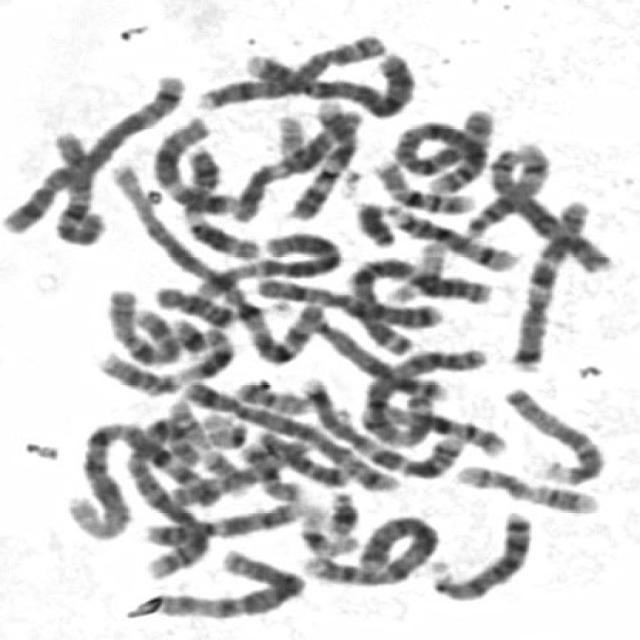A1: (102, 152, 327, 366), (70, 413, 218, 556)
A2: (120, 405, 214, 579), (387, 113, 492, 194)
A3: (341, 250, 478, 356), (356, 342, 491, 448)
B4: (236, 42, 421, 120), (298, 510, 441, 588)
B5: (0, 67, 188, 235), (176, 372, 415, 494)
C10: (44, 125, 106, 246), (97, 283, 184, 367)
C11: (92, 320, 238, 398), (176, 142, 264, 262)
C12: (220, 100, 364, 222), (145, 111, 244, 217)
C6: (190, 225, 342, 300), (154, 550, 310, 618)
C7: (292, 374, 464, 480), (501, 192, 595, 370)
C8: (483, 140, 618, 274), (190, 28, 388, 112)
C9: (281, 101, 362, 221), (137, 495, 312, 547)
D13: (424, 505, 535, 603), (315, 322, 447, 394)
D14: (456, 136, 554, 239), (382, 200, 520, 272)
D15: (496, 382, 610, 486), (158, 432, 314, 508)
E16: (373, 399, 511, 458), (367, 154, 478, 216)
E17: (450, 457, 603, 516), (165, 400, 251, 497)
E18: (258, 427, 347, 489), (148, 279, 238, 329)
F19: (381, 235, 450, 304), (293, 505, 361, 558)
F20: (234, 439, 306, 503), (230, 374, 314, 416)
G21: (321, 485, 362, 539), (167, 313, 211, 357)
G22: (198, 407, 252, 450), (270, 108, 310, 158)
X: (247, 272, 442, 330)
Y: (348, 195, 399, 249)
